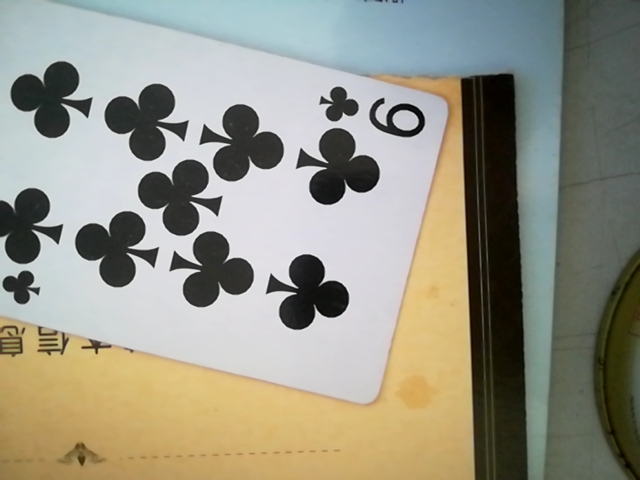mh 9: (2, 5, 464, 410)
